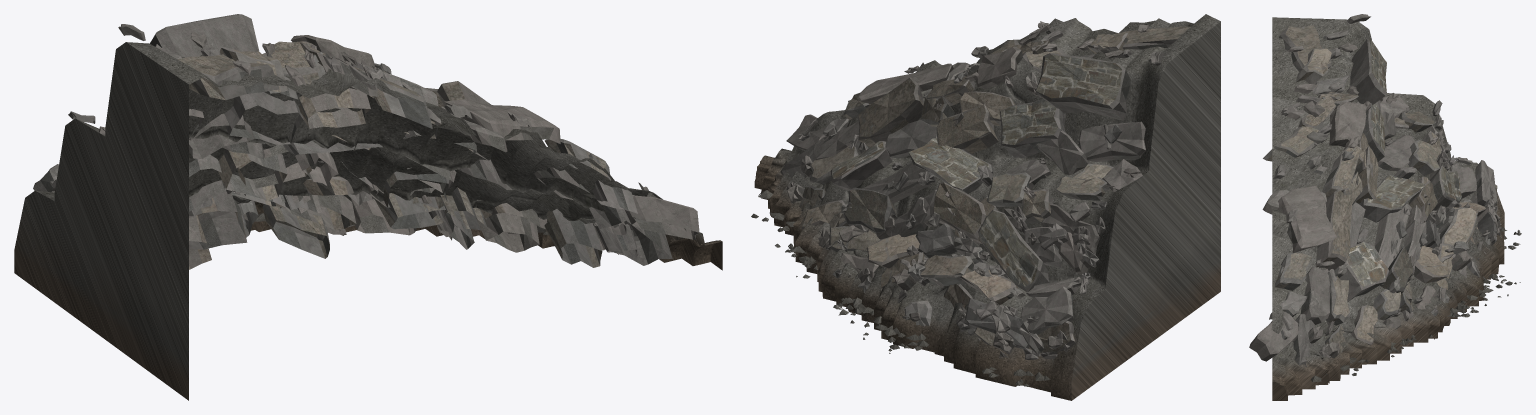
Rendered from gate-scarp.glb.
3 views of the same model, side by side, from view 1: azimuth 30°, elevation 25°; view 2: azimuth 150°, elevation 25°; view 3: azimuth 270°, elevation 25° (orthographic). The views are drawn at different scales.
Visible parts, largest first — view 1: model; view 2: model; view 3: model.
Part boxes in pixels (x1,y1,x2,y2): model: [14, 14, 722, 400]; model: [751, 14, 1220, 400]; model: [1249, 14, 1521, 400].
Size of the model in its own units: 7.42 by 4.59 by 4.94.
1 material, 1 textured.
